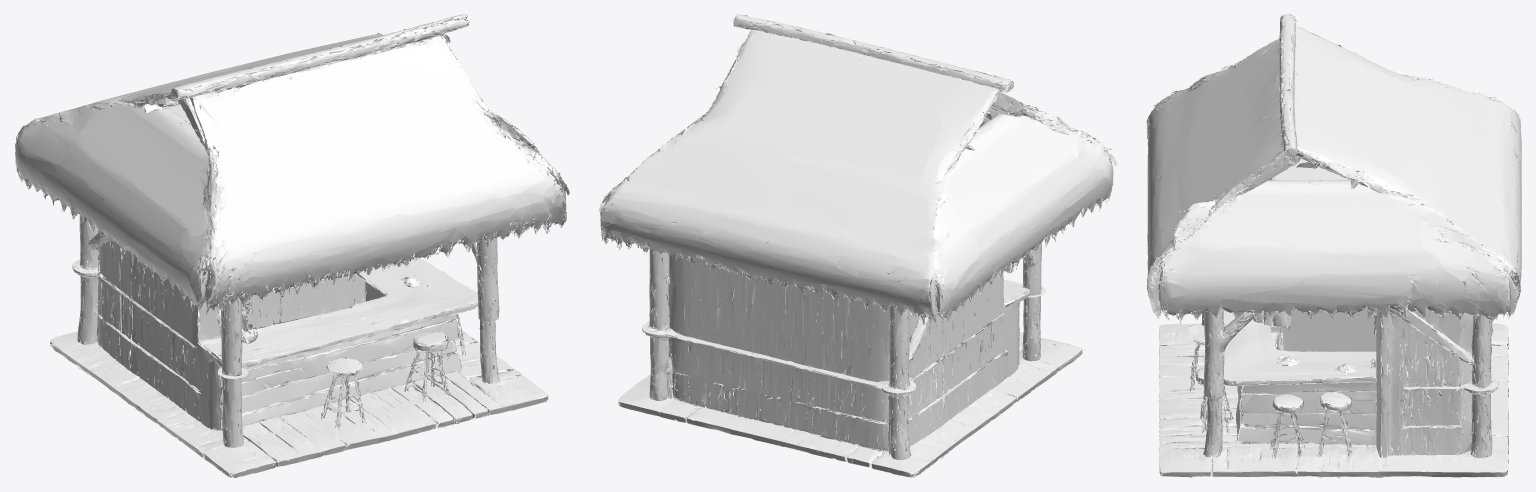
Rendered from beach-shack.glb.
3 views of the same model, side by side, from view 1: azimuth 30°, elevation 25°; view 2: azimuth 150°, elevation 25°; view 3: azimuth 270°, elevation 25° (orthographic). The views are drawn at different scales.
Parts seen in each view (by area): view 1: model; view 2: model; view 3: model.
Part boxes in pixels (box(x1,y1,x2,y2)): model: box(14, 14, 569, 477); model: box(598, 14, 1117, 477); model: box(1146, 14, 1521, 477).
Size of the model in its own units: 1.9 by 1.67 by 1.75.
1 material, 1 textured.
